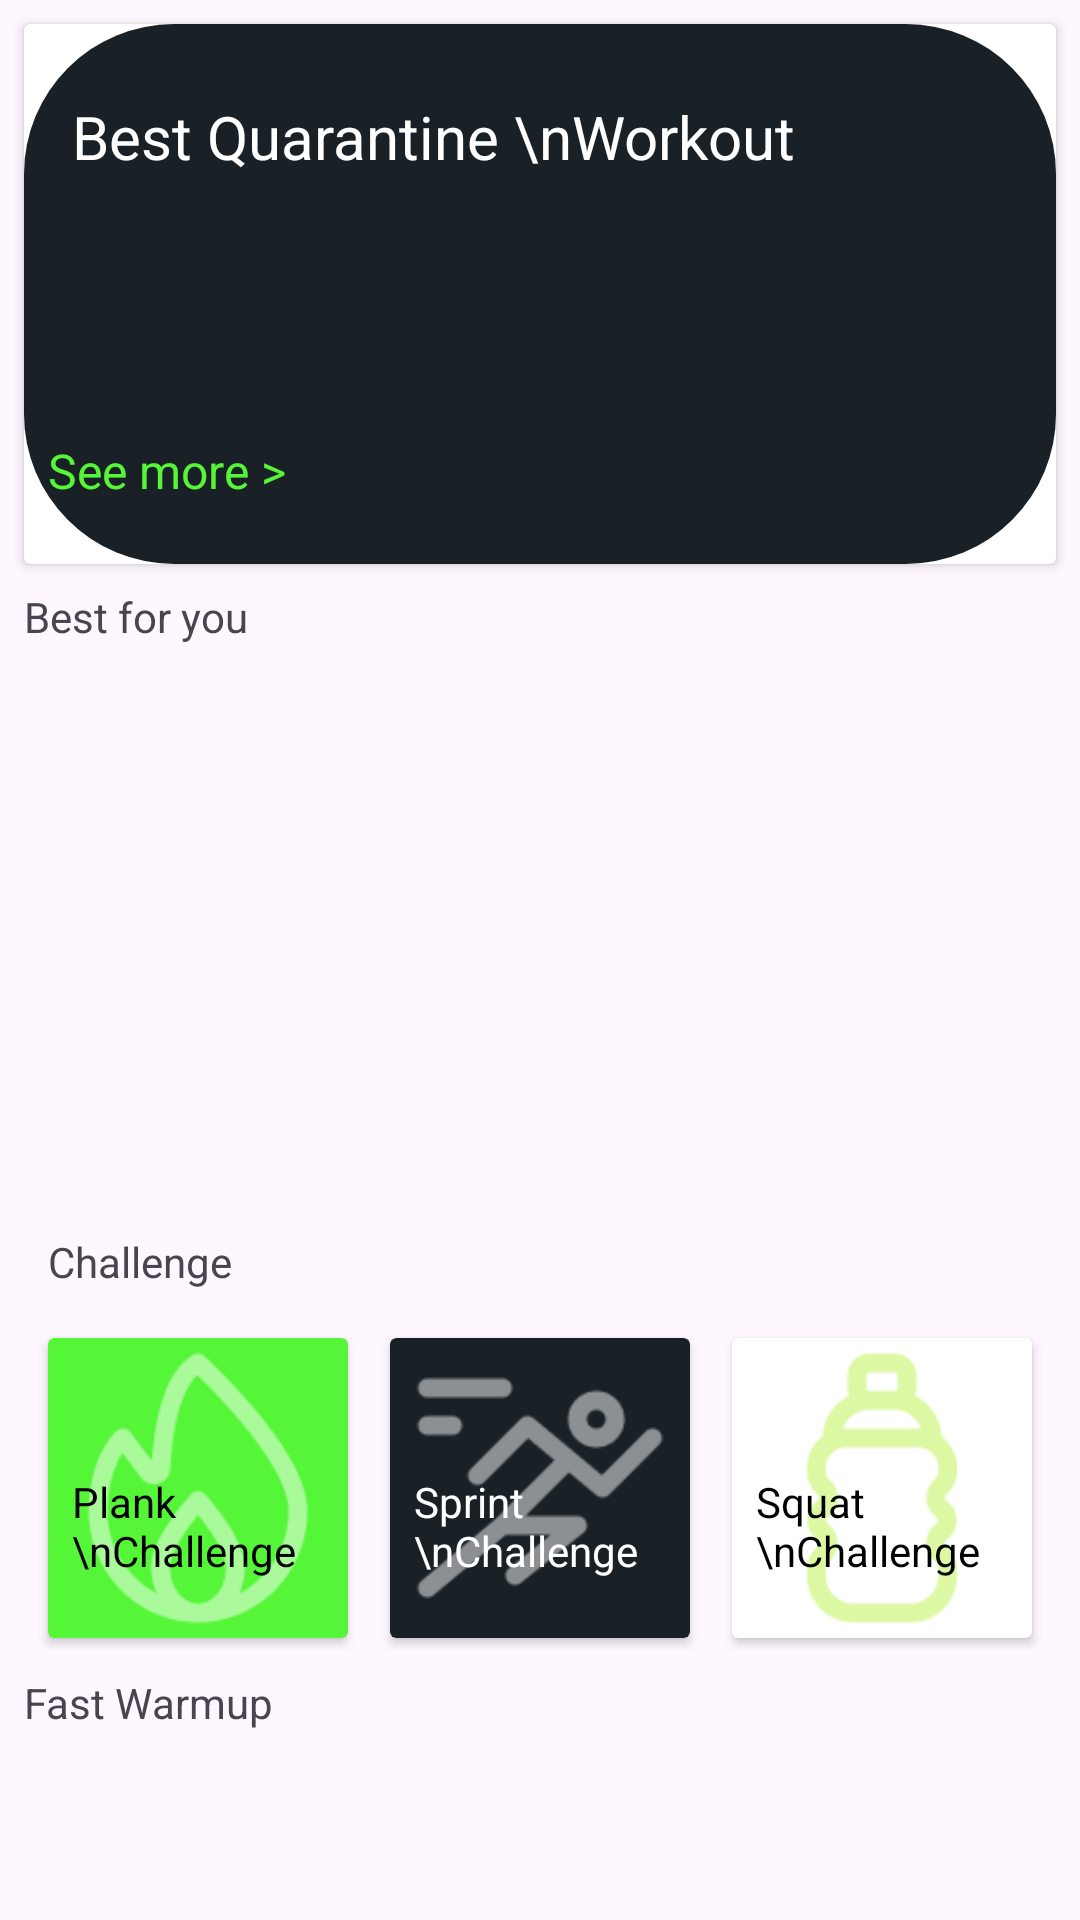

Named icons in this screenshot (1080px x 1920px) and their centers, [x,y]:
bottle: [882,1488]
fire: [198,1488]
run: [540,1488]
